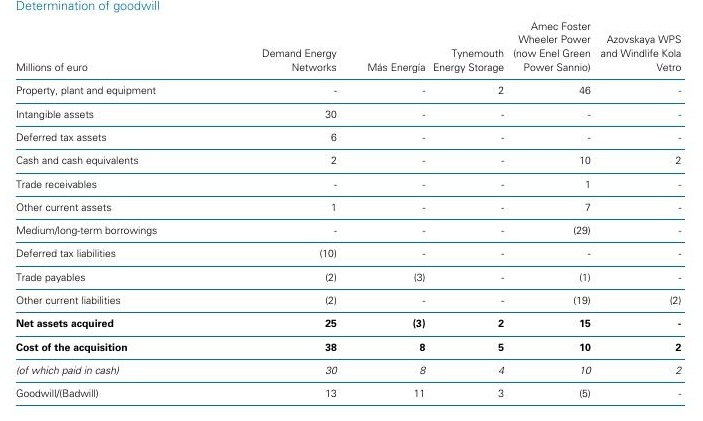table: (0, 0, 703, 421)
